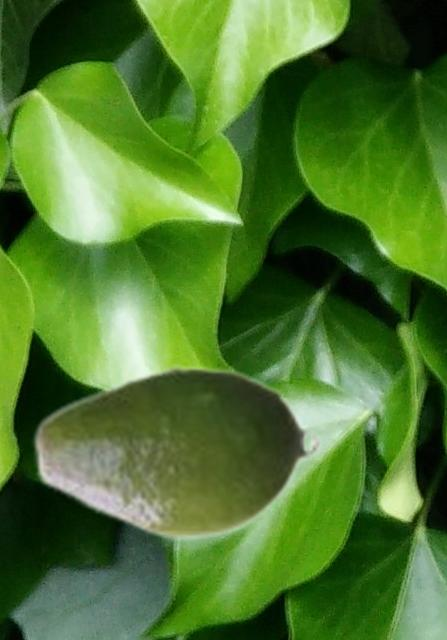avocado: (30, 361, 323, 542)
